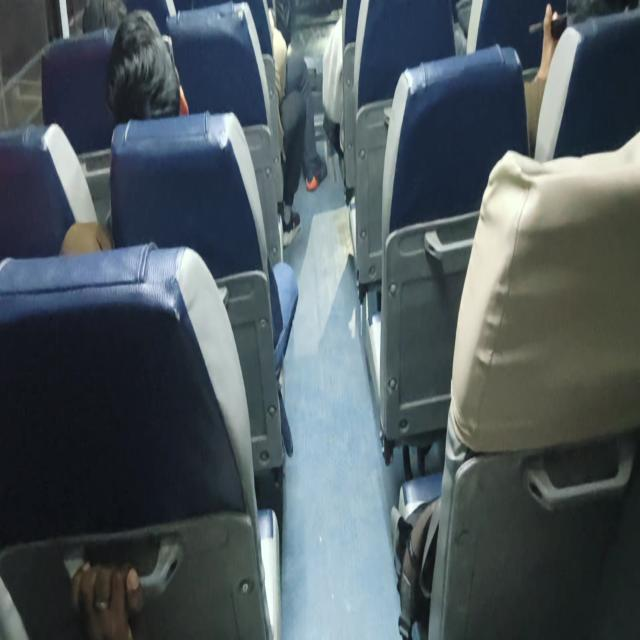person: (59, 9, 298, 456), (59, 8, 189, 255), (268, 7, 328, 247), (105, 8, 189, 122), (69, 559, 145, 638)
